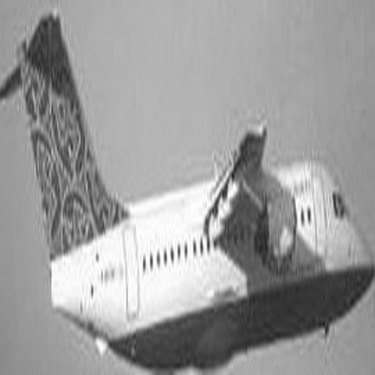airplane: (7, 7, 369, 372)
